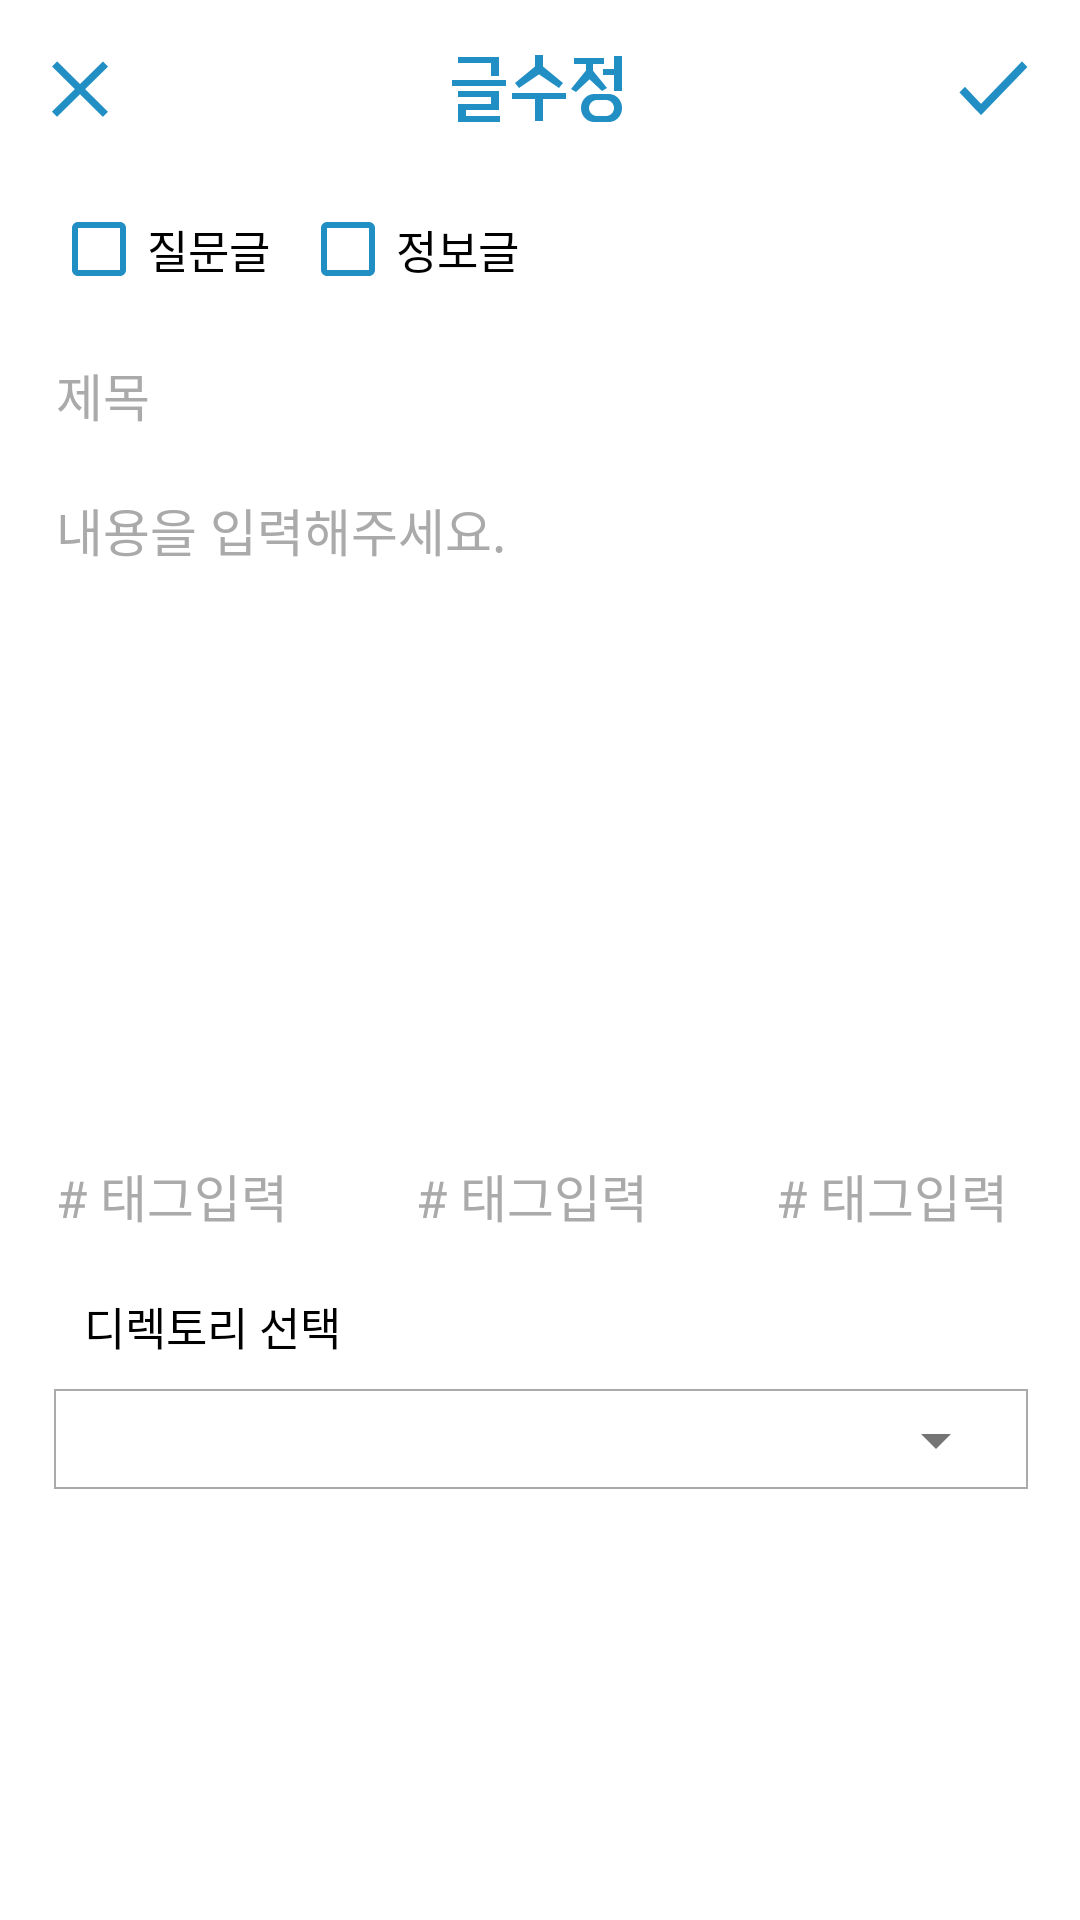

Point at icon controls on the screen. Image size 1080w x 1920h, points as point (x, y).
writing nav clear: point (80, 89)
writing nav done: point (993, 88)
